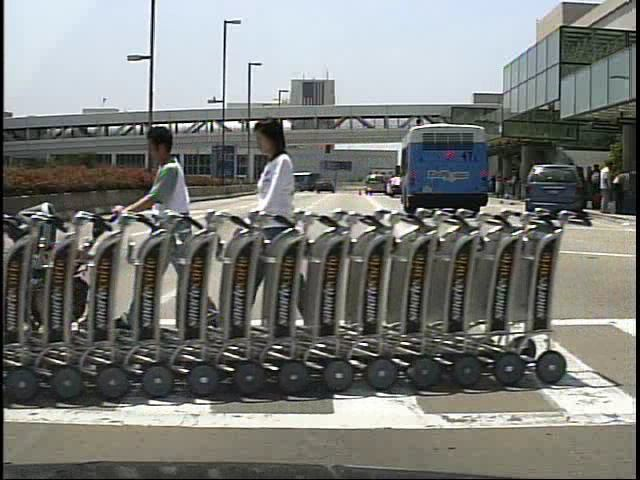person: (243, 114, 322, 349), (119, 120, 202, 339), (597, 160, 617, 213), (588, 164, 605, 215)
